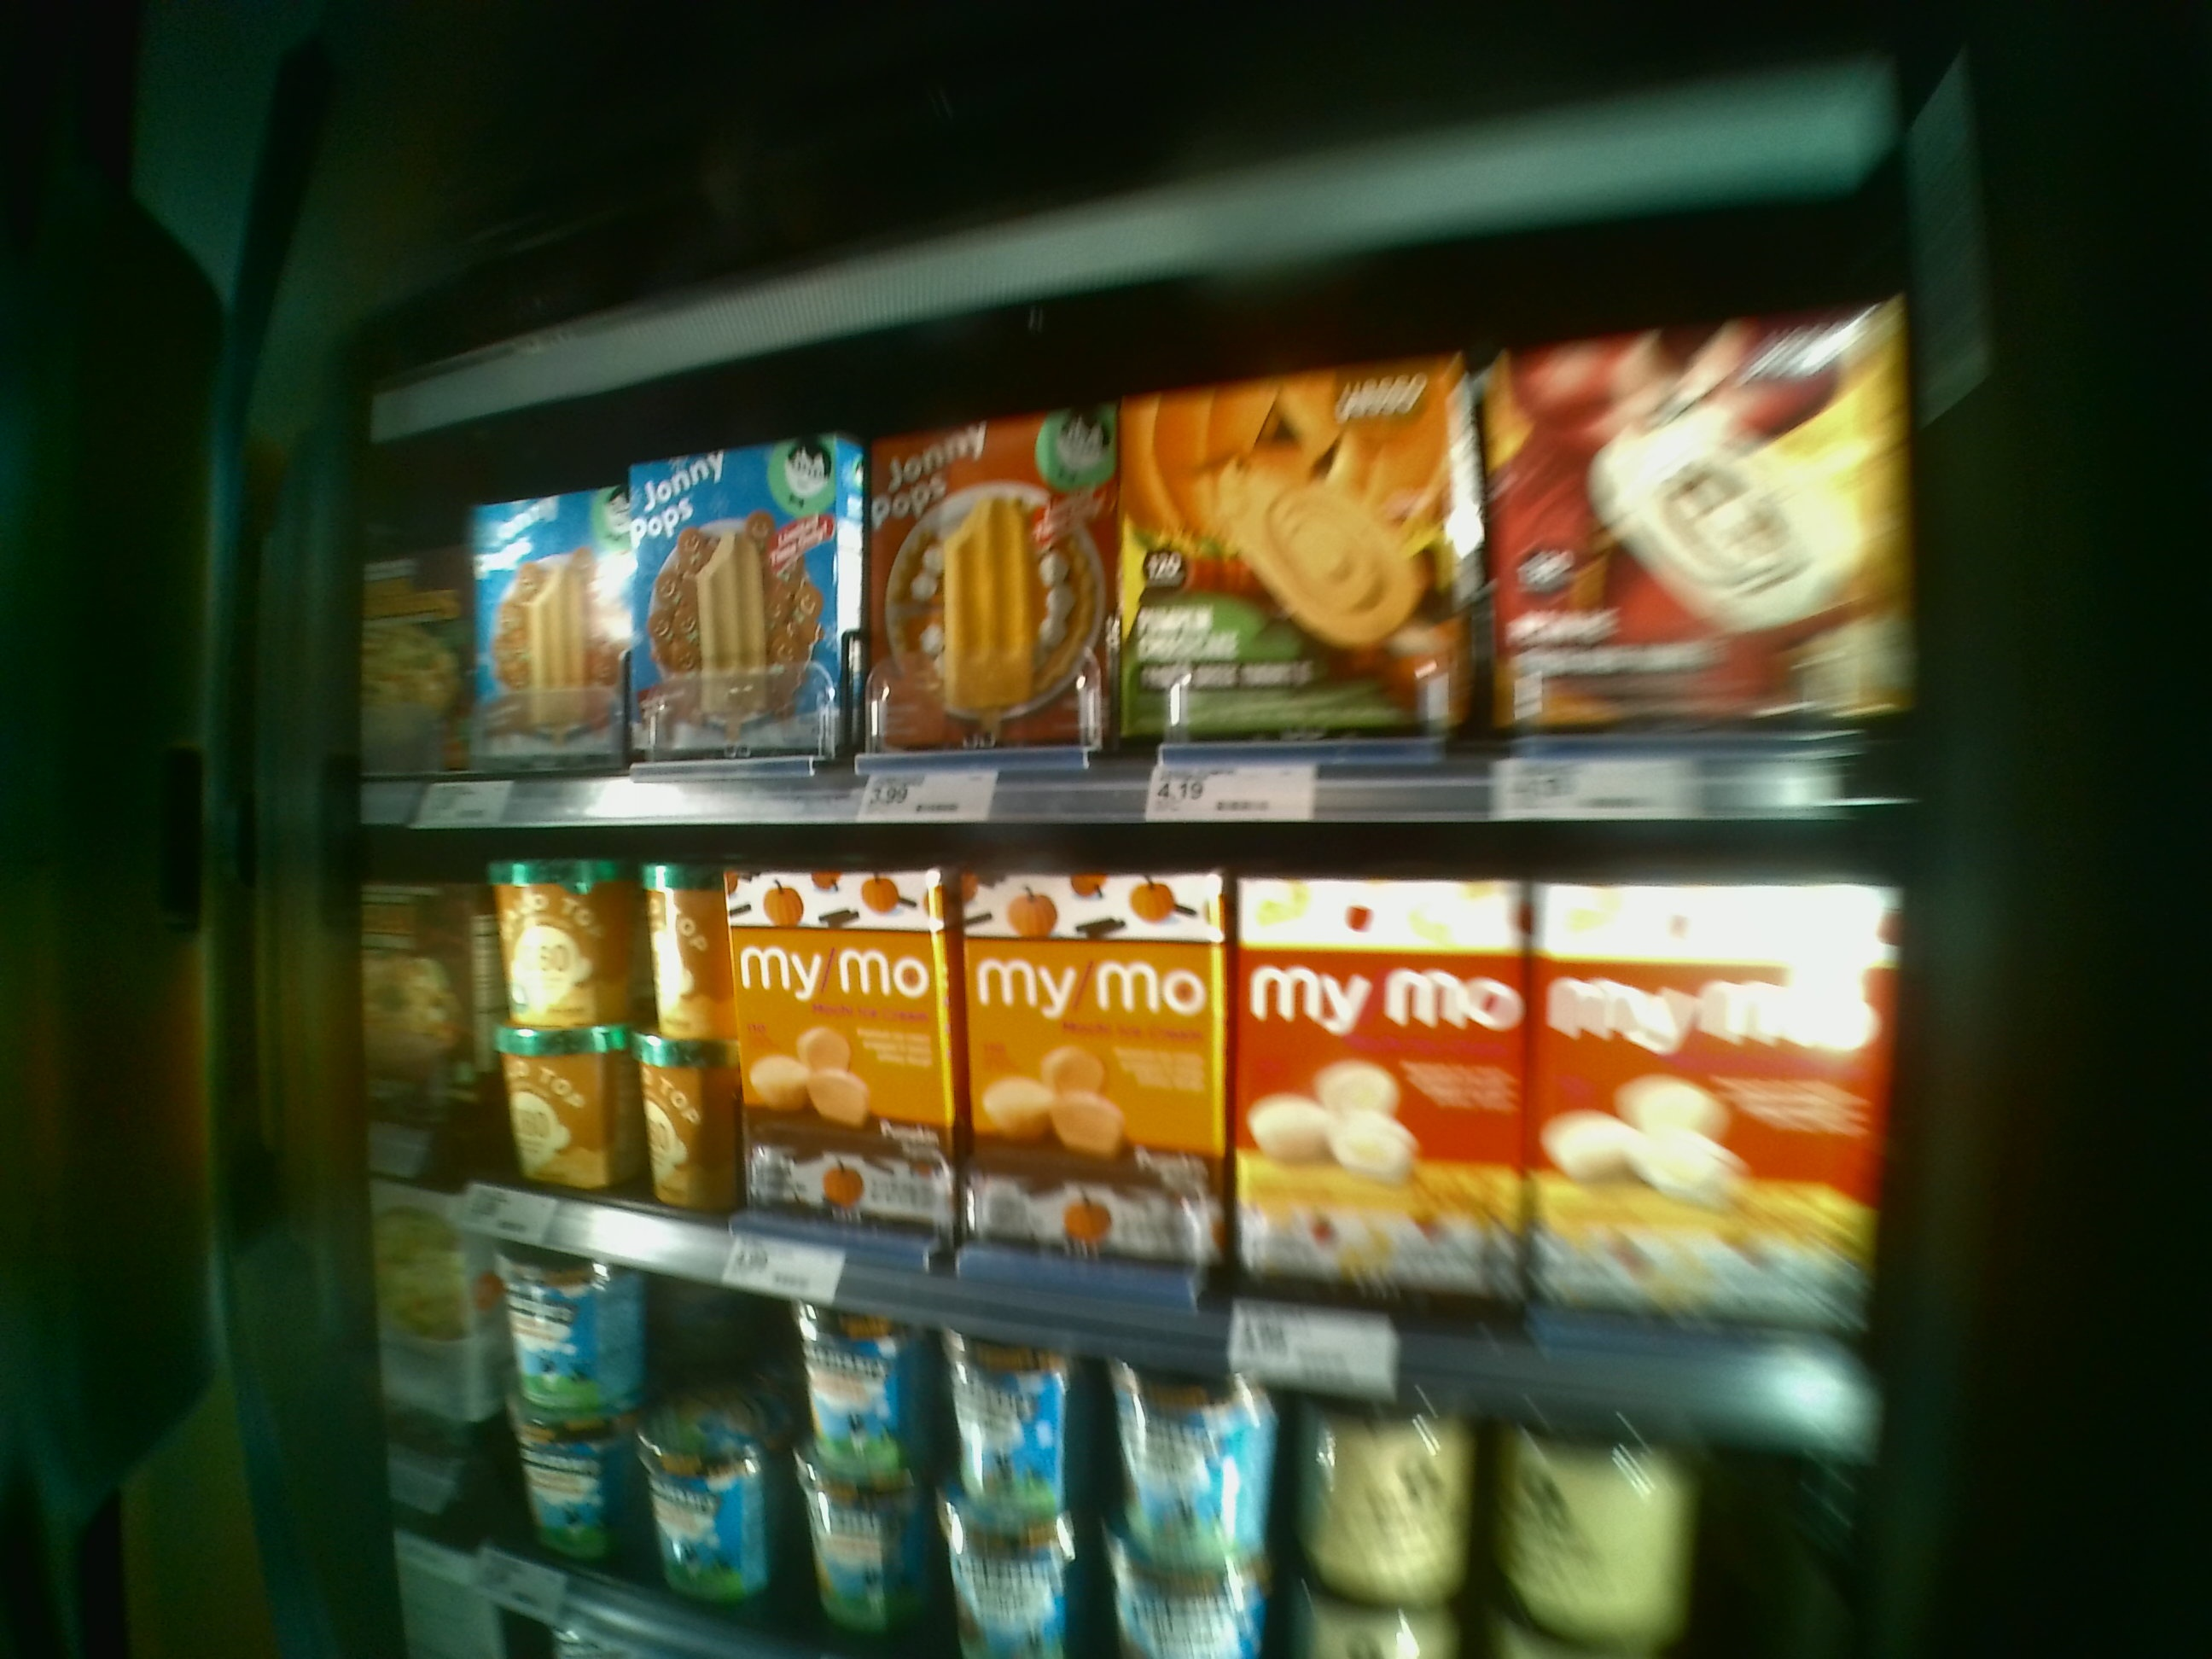shelf: (369, 807, 1905, 1452), (383, 342, 1923, 793)
